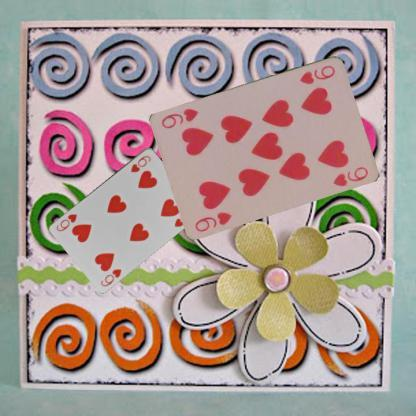6h: (128, 152, 152, 174), (98, 266, 122, 288)
9h: (192, 208, 233, 233), (296, 62, 336, 86)
